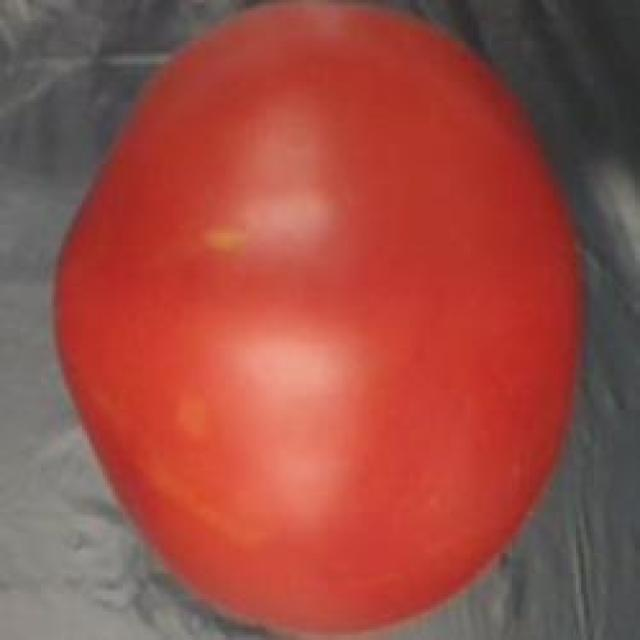ripe tomato: (38, 0, 604, 640)
